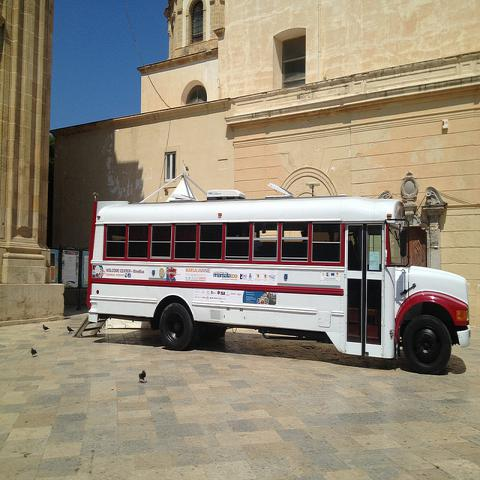bus: (86, 198, 470, 376)
